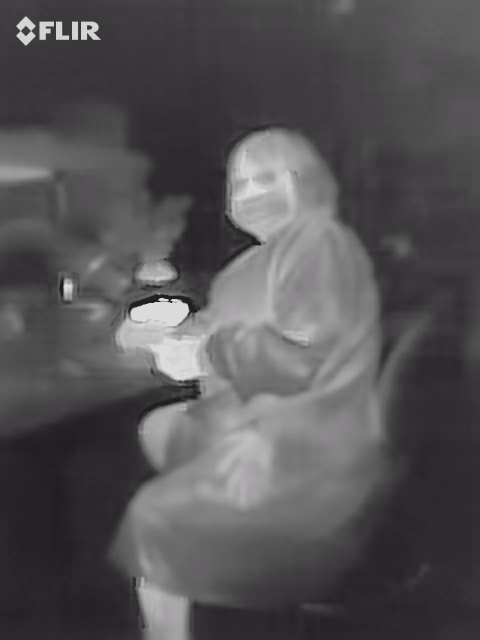head: (223, 126, 338, 237)
